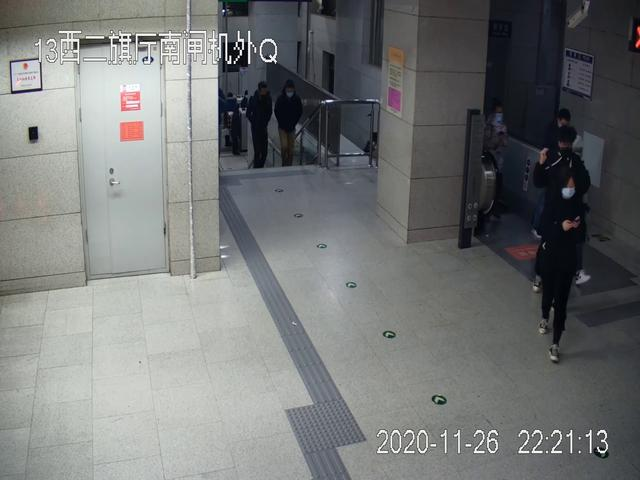person: (538, 174, 584, 363), (276, 79, 303, 167), (247, 82, 272, 171)
